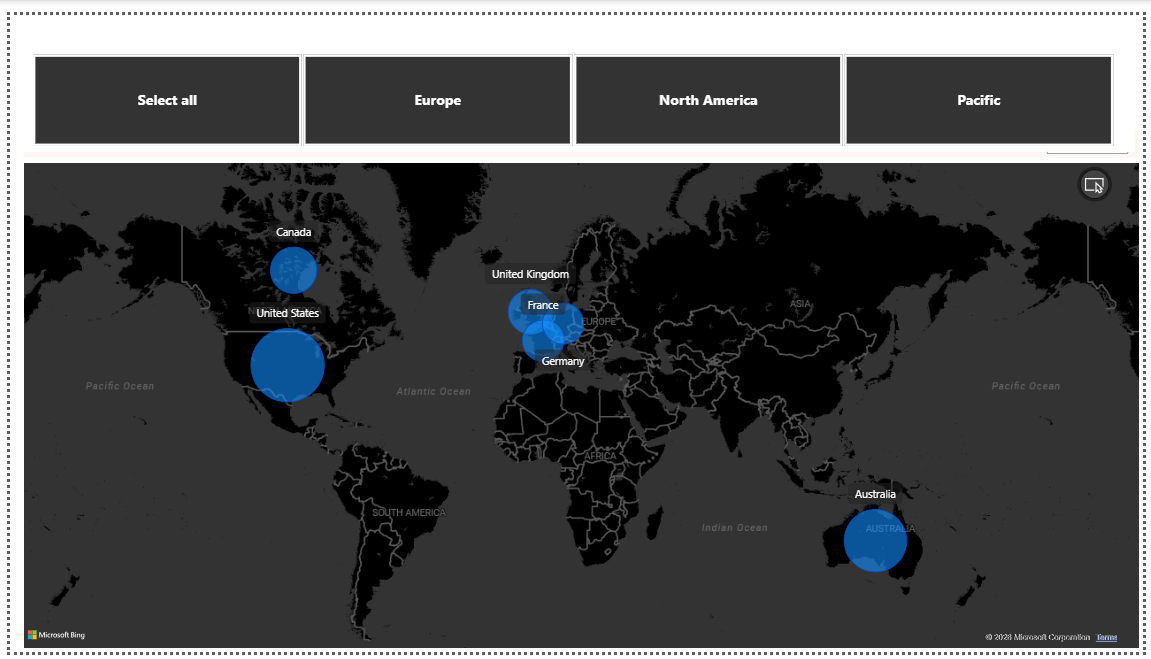

The dashboard page shown, as its layout file describes it:
{"tool":"powerbi","page":{"name":"Maps","canvas":[1280,720],"ordinal":1},"visuals":[{"type":"map","fields":{"Category":["Territory Lookup.Country"],"Size":["Measures table (non_dax).Total Orders"]},"box":[9.9,124.2,1270.5,596.3],"z":0},{"type":"slicer","fields":{"Values":["Territory Lookup.Continent"]},"box":[0,36.4,1270.5,117.6],"z":1}]}

Visuals, with their boxes in screenshot pixels (x1, y1, x2, y2), scaled from the page's 1280x720 canvas onto the 1151x659 screenshot:
map - Territory Lookup.Country x Measures table (non_dax).Total Orders: [9,114,1150,658]
slicer - Territory Lookup.Continent: [0,33,1142,141]
